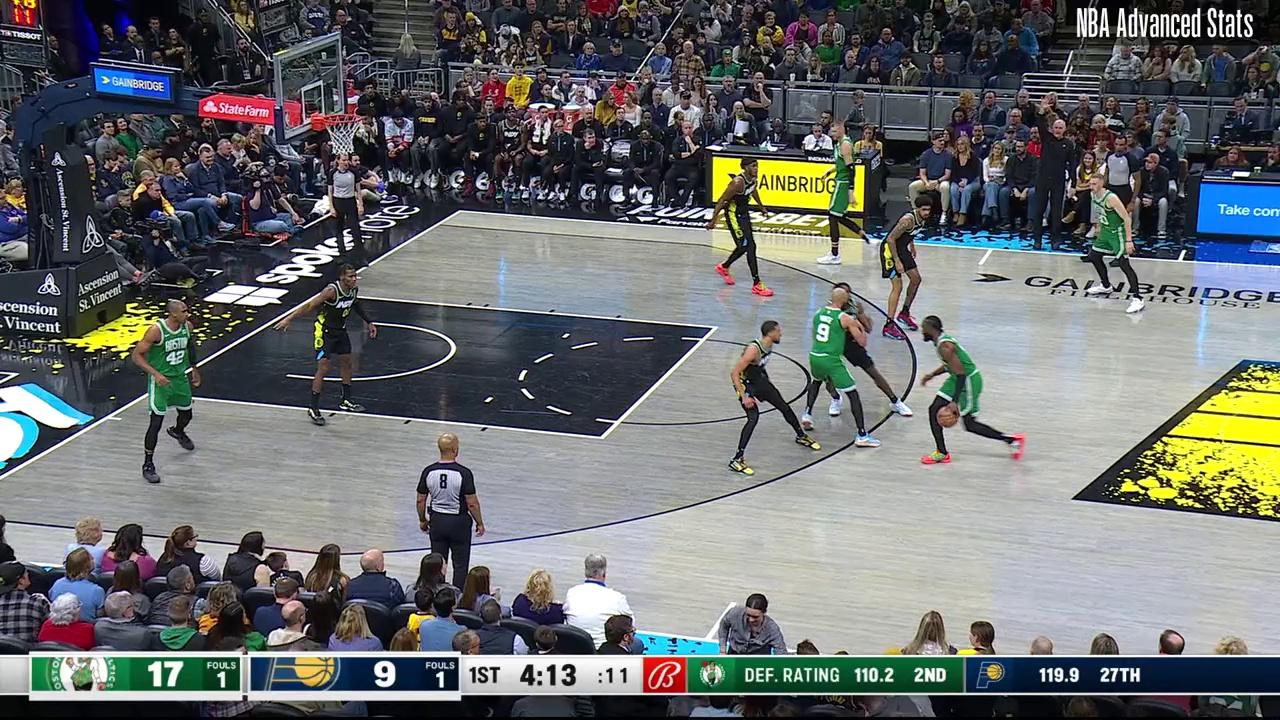3_dx: (432, 220, 442, 229)
b_dx: (455, 207, 465, 216)
free_adx: (710, 323, 720, 333)
free_asx: (597, 433, 608, 443), (729, 597, 739, 607)
mid_dx: (975, 260, 985, 270)
referee: (418, 429, 486, 581), (1100, 140, 1144, 250), (328, 155, 367, 259)
team: (918, 313, 1025, 462), (133, 299, 203, 488), (803, 289, 884, 448), (1082, 176, 1148, 315), (819, 120, 881, 267)
team1: (287, 265, 380, 426), (723, 321, 820, 473), (830, 281, 908, 416), (709, 157, 777, 296), (882, 200, 929, 341)
timer: (516, 658, 581, 691)
